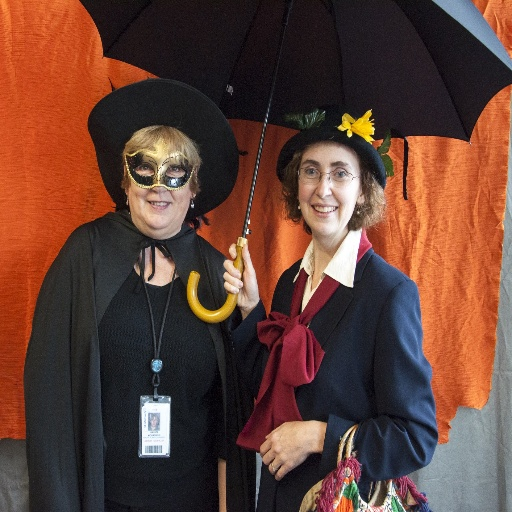hand: (261, 402, 334, 481), (221, 238, 260, 314)
